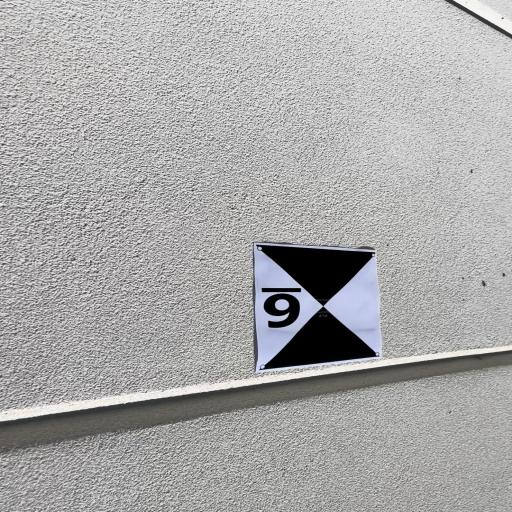target6: (254, 245, 383, 375)
